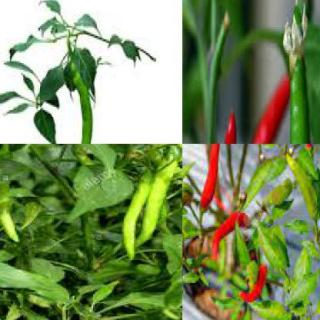green_chilli: (134, 163, 181, 249), (288, 1, 315, 143), (122, 167, 151, 260), (0, 150, 28, 246), (62, 61, 92, 143), (283, 154, 319, 220), (50, 144, 98, 170)
